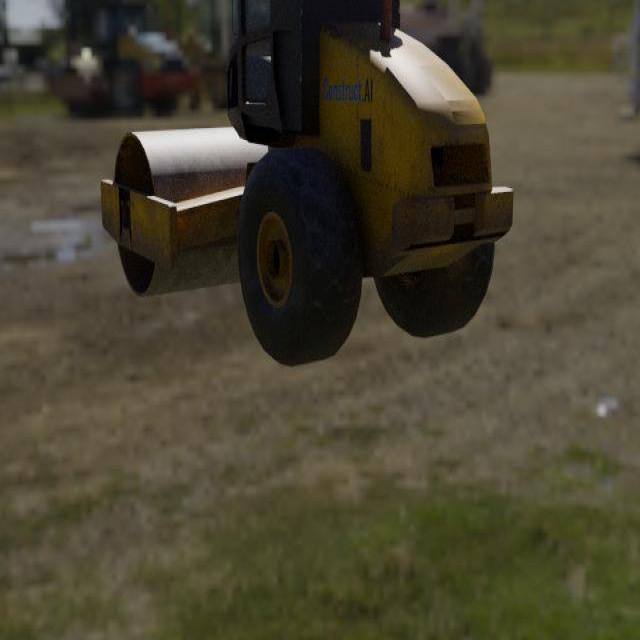Roller: (100, 0, 514, 368)
